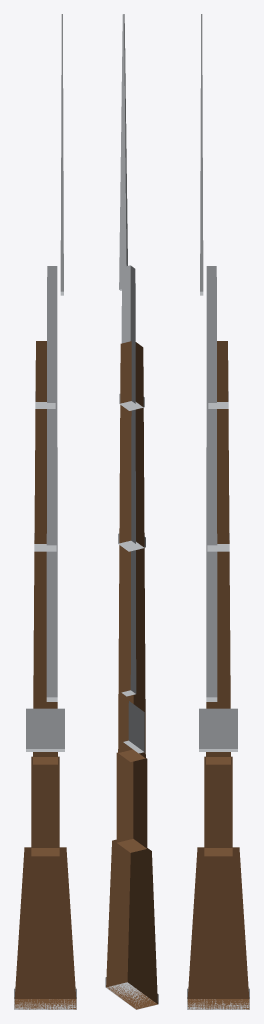
File: SM_Musket.glb
The picture shows the model from 3 angles, left to right: view 1: azimuth 90°, elevation 25°; view 2: azimuth 210°, elevation 25°; view 3: azimuth 270°, elevation 25°; orthographic projection.
Visible parts, largest first — view 1: SM_Musket; view 2: SM_Musket; view 3: SM_Musket.
Boxes of the visible parts, box(x1,y1,x2,y2) form: SM_Musket: box(14, 14, 76, 1009); SM_Musket: box(105, 14, 158, 1009); SM_Musket: box(187, 14, 249, 1009).
Bounding box in the file's own units: 0.047 × 1.95 × 0.112.
